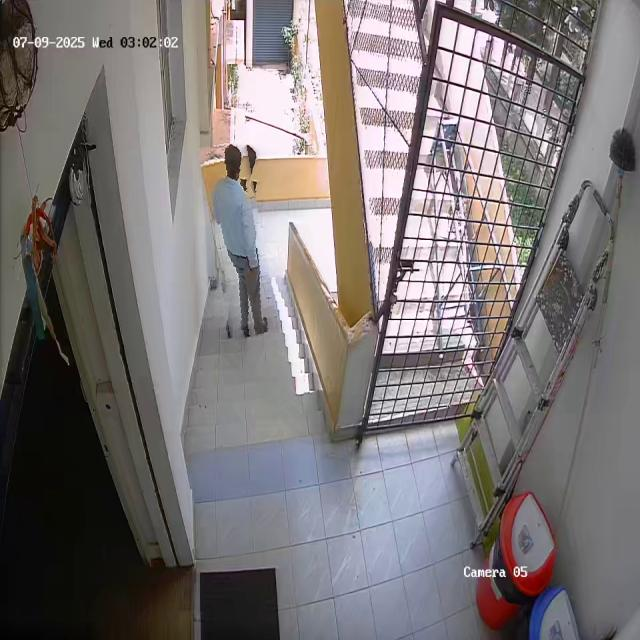person: (206, 142, 271, 340)
